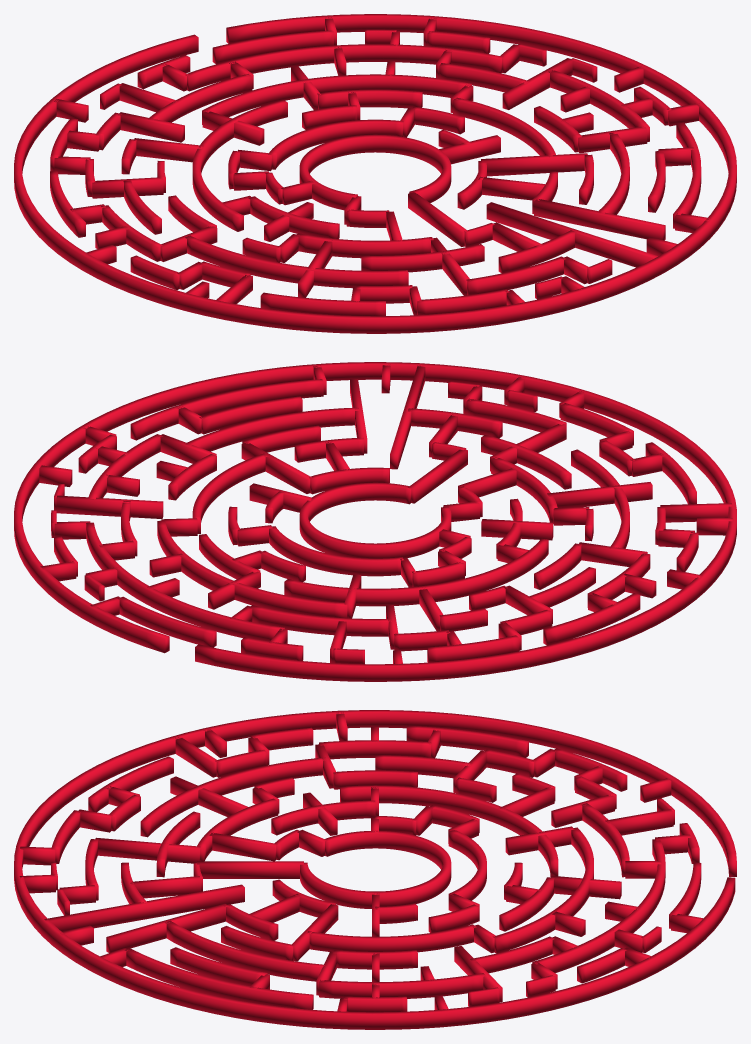
The model's file is MazeWO.fbx.
3 views of the same model, one above another, from view 1: azimuth 30°, elevation 25°; view 2: azimuth 150°, elevation 25°; view 3: azimuth 270°, elevation 25° (orthographic).
Parts seen in each view (by area): view 1: Curve.030; view 2: Curve.030; view 3: Curve.030.
Part boxes in pixels (<box>): Curve.030: <box>14,14,736,333</box>; Curve.030: <box>14,362,736,681</box>; Curve.030: <box>14,710,736,1029</box>.
Size of the model in its own units: 9.14 by 0.2 by 9.14.
